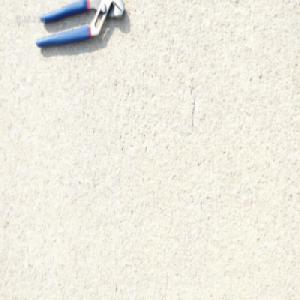Pliers: (34, 0, 126, 49)
